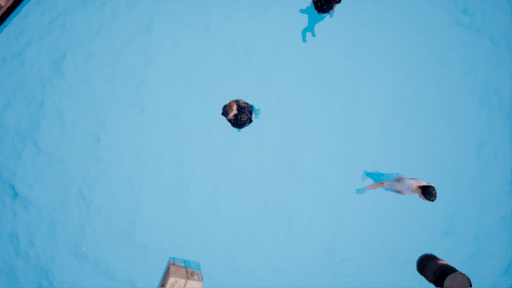person: (355, 167, 442, 205), (219, 98, 265, 133)
